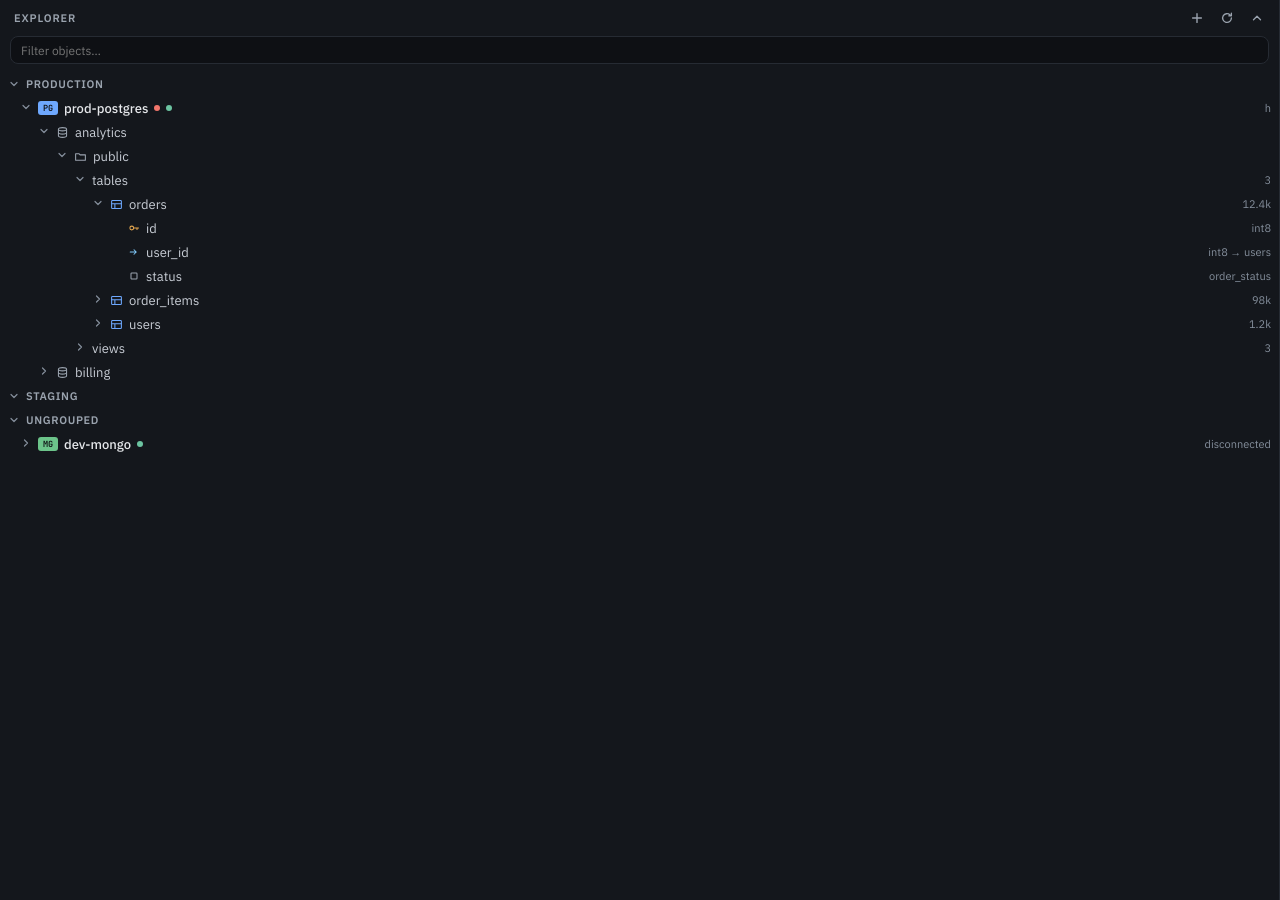
Test: collapse and expand › collapses a group header and Collapse all clears expansion
The width and height of the screenshot is (1280, 900).
Click the list item "Production". click: (56, 84)
box: [8, 77, 104, 91]
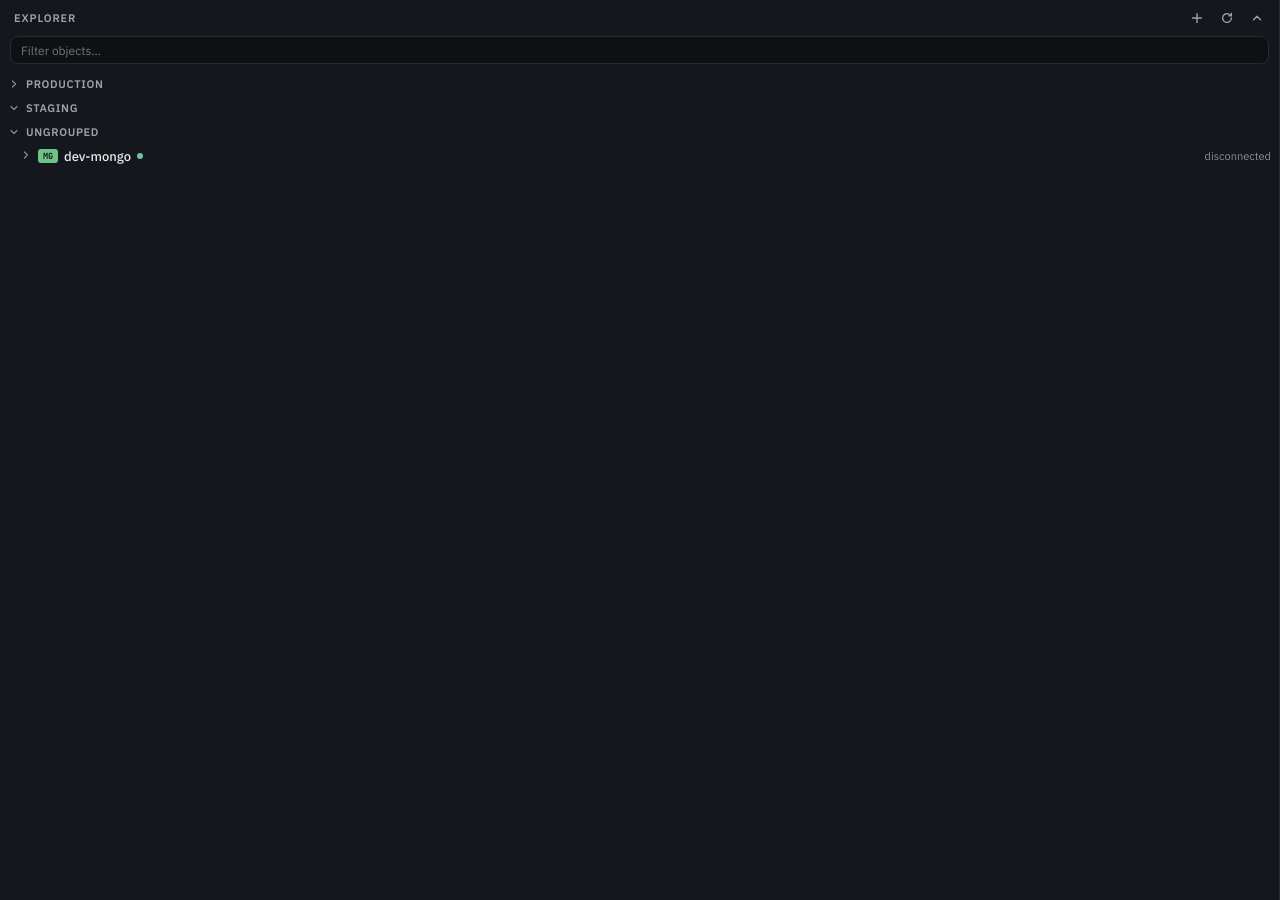
Check: the text "prod-postgres" is gone
Click the list item "Production". click: (56, 84)
box: [8, 77, 104, 91]
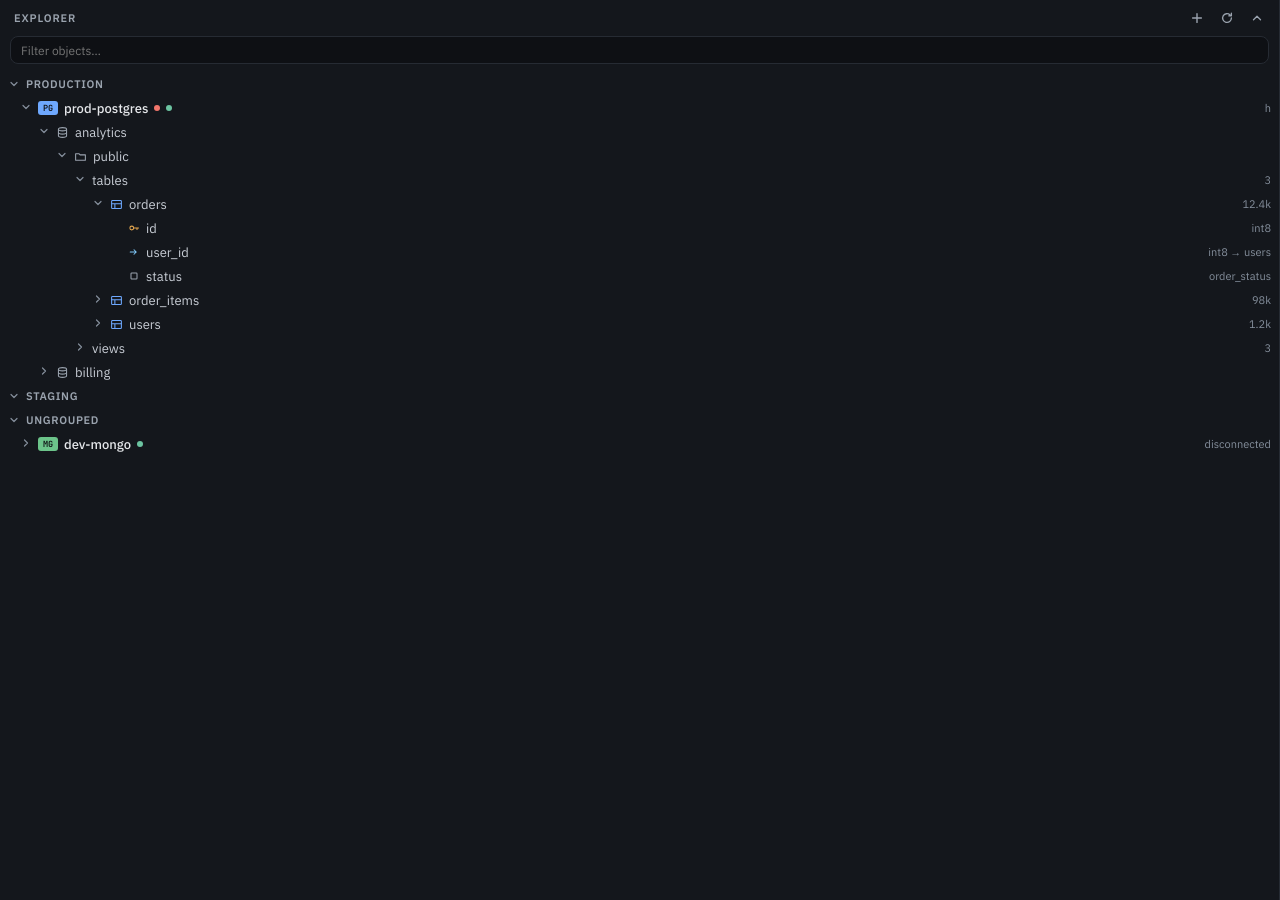
Click the button named "Collapse all". click: (1257, 18)
box: [1243, 4, 1271, 32]
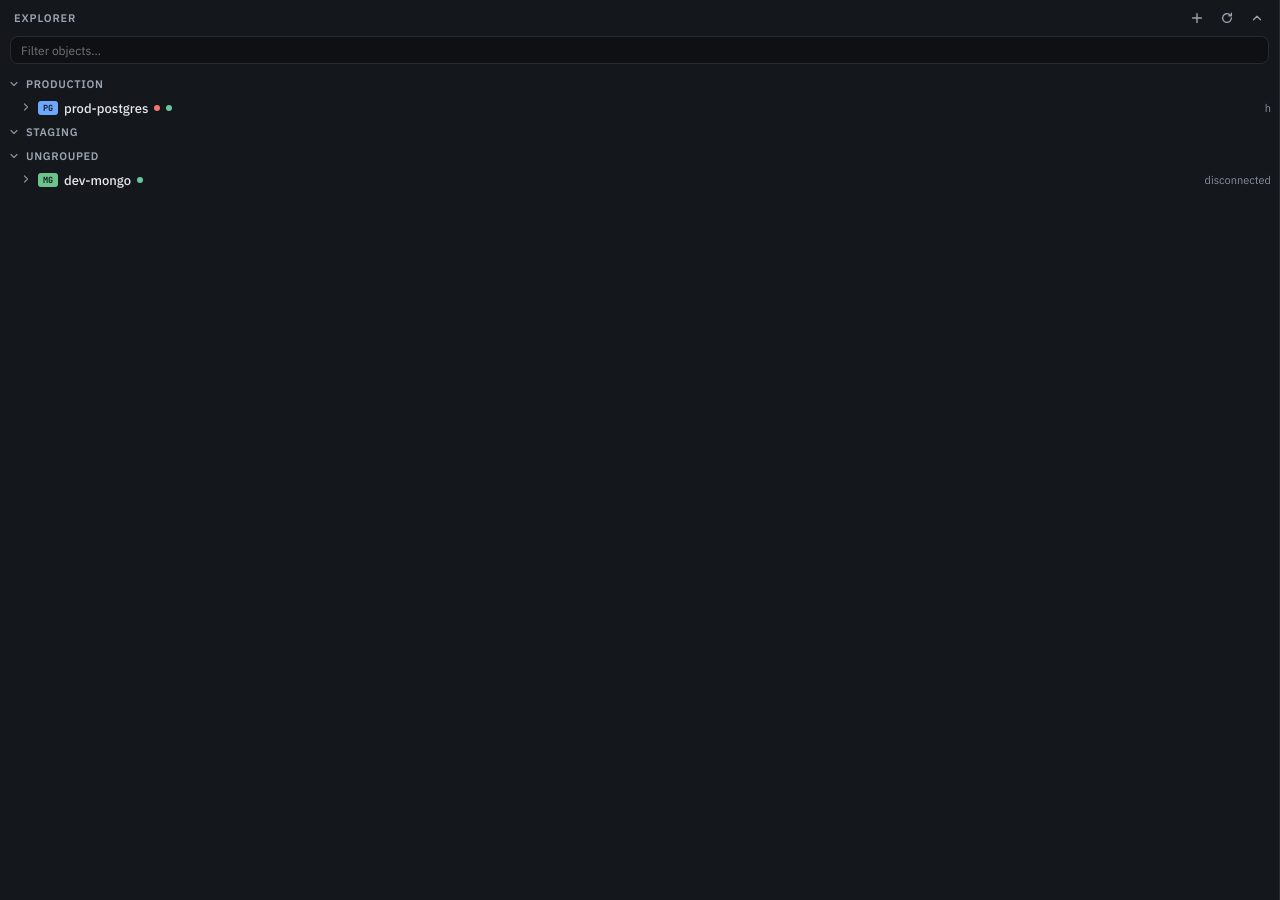
Check: the text "analytics" is gone
